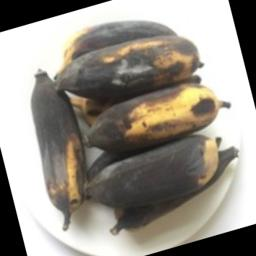Banana Rotten: (68, 85, 240, 146)
